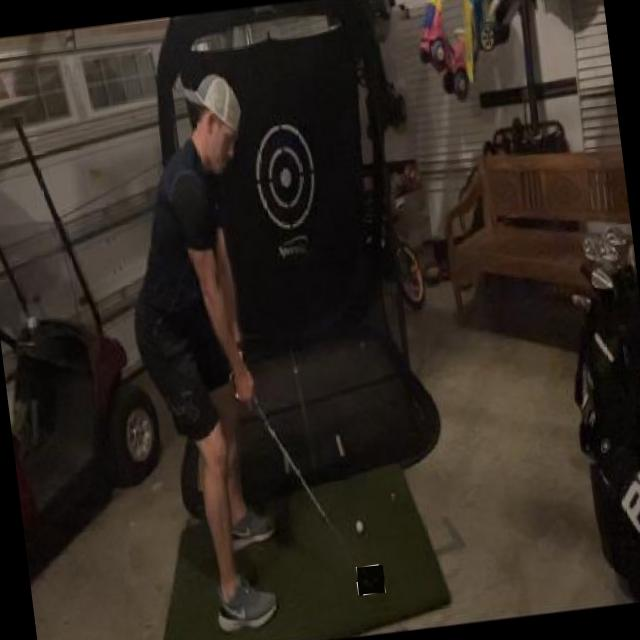club head: (356, 564, 386, 596)
